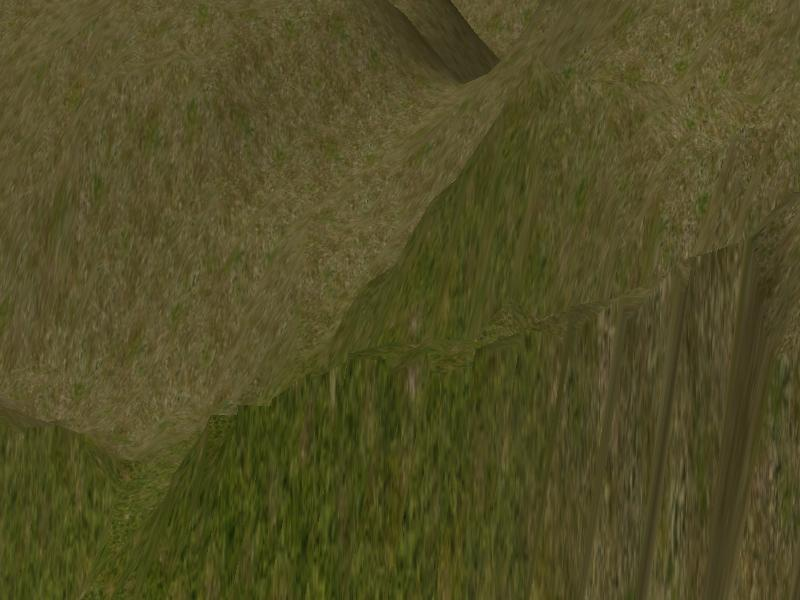background: (2, 1, 800, 596)
